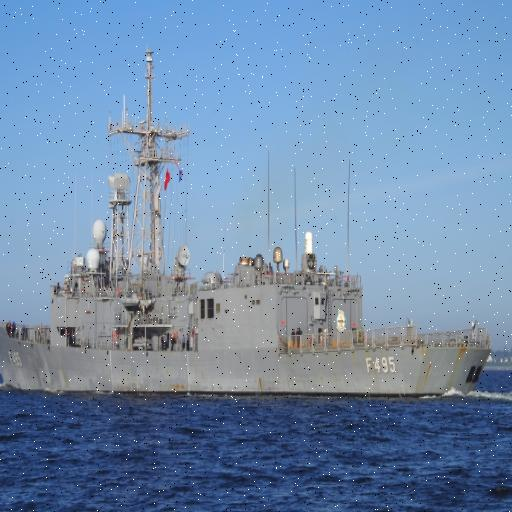Fragata: (1, 43, 494, 401)
